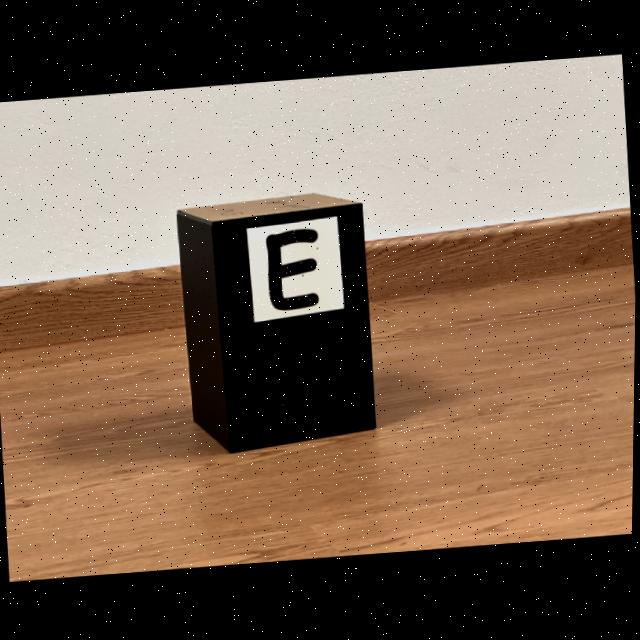E: (267, 229, 319, 310)
